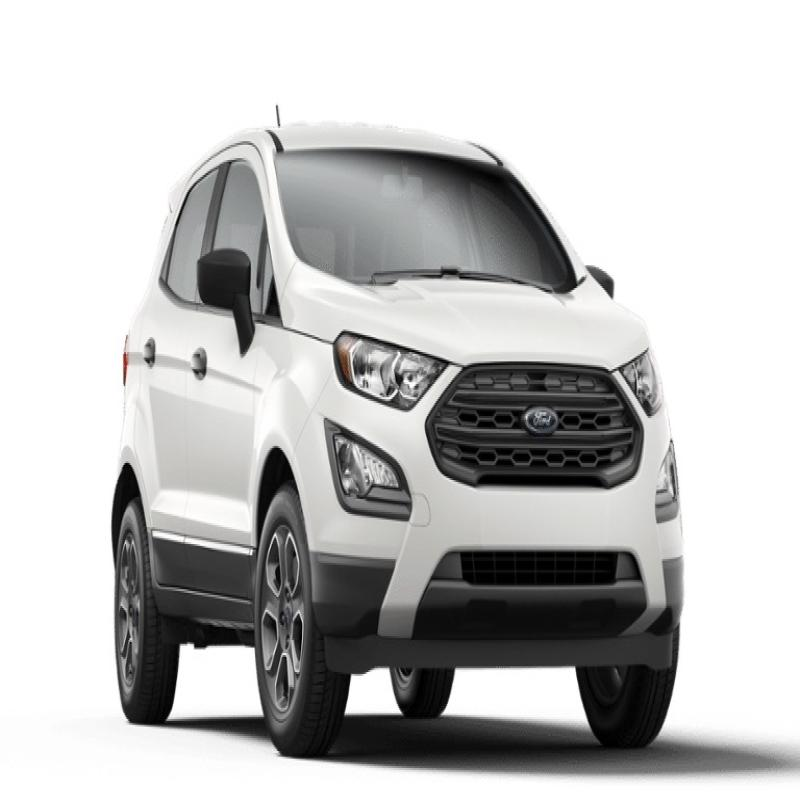car: (105, 99, 689, 762)
